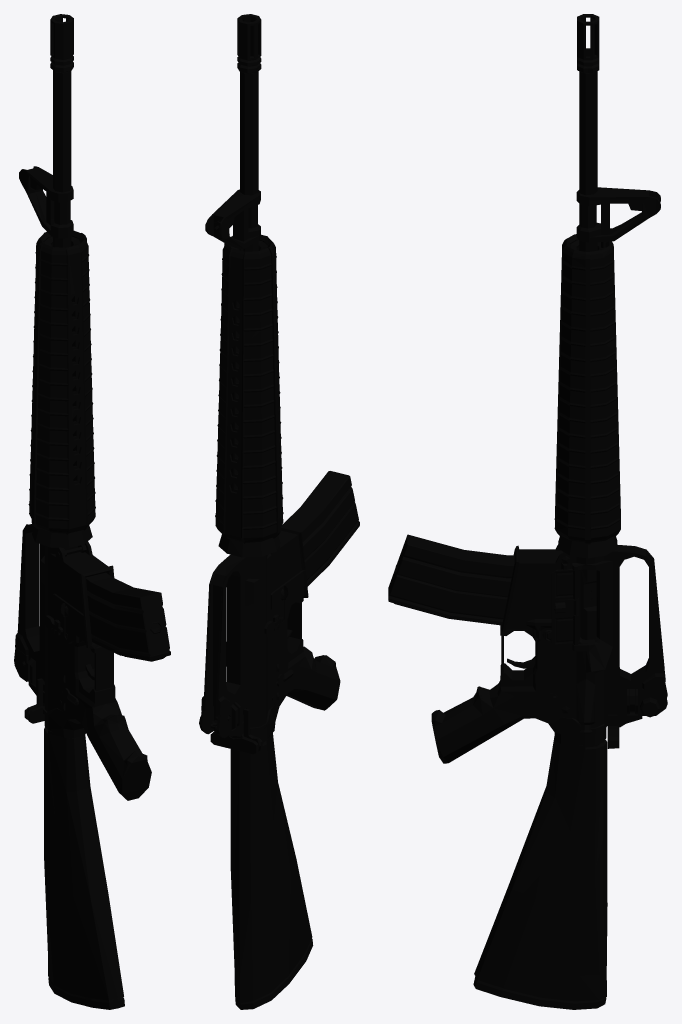
3 views of the same model, side by side, from view 1: azimuth 30°, elevation 25°; view 2: azimuth 150°, elevation 25°; view 3: azimuth 270°, elevation 25° (orthographic).
Parts seen in each view (by area): view 1: asset_M16A2.001; view 2: asset_M16A2.001; view 3: asset_M16A2.001.
Boxes of the visible parts, left/top/right/bottom form: asset_M16A2.001: left=14, top=14, right=170, bottom=1009; asset_M16A2.001: left=199, top=14, right=359, bottom=1009; asset_M16A2.001: left=388, top=14, right=667, bottom=1009.
Size of the model in its own units: 0.0384 by 0.6 by 0.1542.
